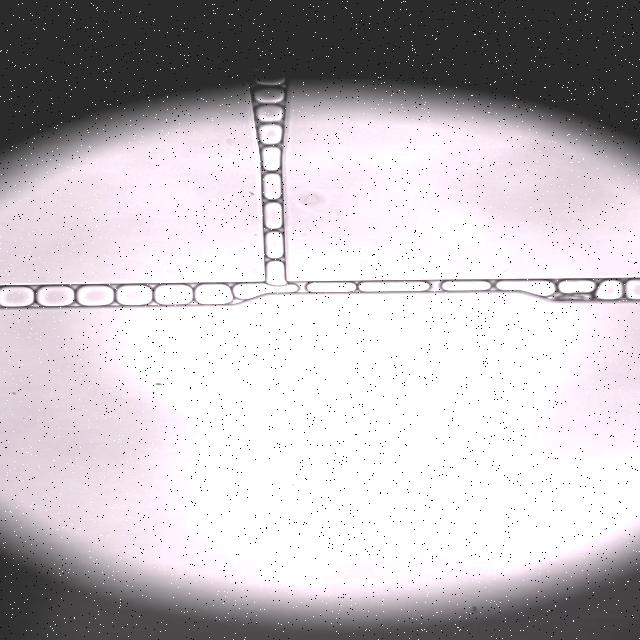L: (442, 280, 490, 291), (253, 87, 285, 103), (558, 280, 594, 294), (255, 105, 283, 123), (258, 124, 283, 144), (265, 232, 284, 258), (306, 282, 355, 292), (264, 202, 282, 229), (261, 147, 281, 171), (263, 173, 281, 199), (266, 261, 285, 285), (625, 280, 640, 300), (254, 77, 284, 87)
S: (233, 284, 297, 300), (496, 280, 555, 297), (76, 285, 114, 306), (154, 285, 193, 305), (36, 286, 75, 306), (359, 281, 429, 292), (194, 284, 232, 304), (116, 285, 151, 305), (0, 286, 33, 307), (596, 280, 622, 300)
